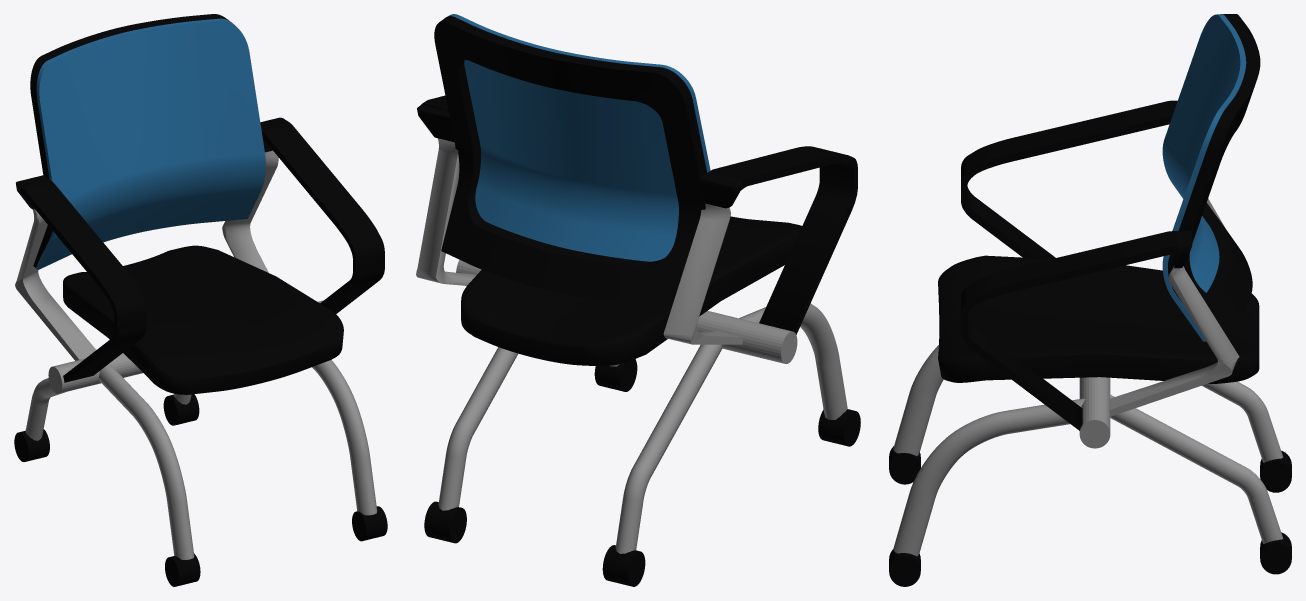
The model's file is SillaLiid.fbx.
The picture shows the model from 3 angles, left to right: view 1: azimuth 30°, elevation 25°; view 2: azimuth 150°, elevation 25°; view 3: azimuth 270°, elevation 25°; orthographic projection. The views are drawn at different scales.
Parts seen in each view (by area): view 1: Cylinder.005; view 2: Cylinder.005; view 3: Cylinder.005.
Part boxes in pixels (bbox=[...]): Cylinder.005: bbox=[14, 14, 387, 586]; Cylinder.005: bbox=[416, 14, 860, 586]; Cylinder.005: bbox=[889, 14, 1291, 586].
Bounding box in the file's own units: 82 × 120 × 93.76.
